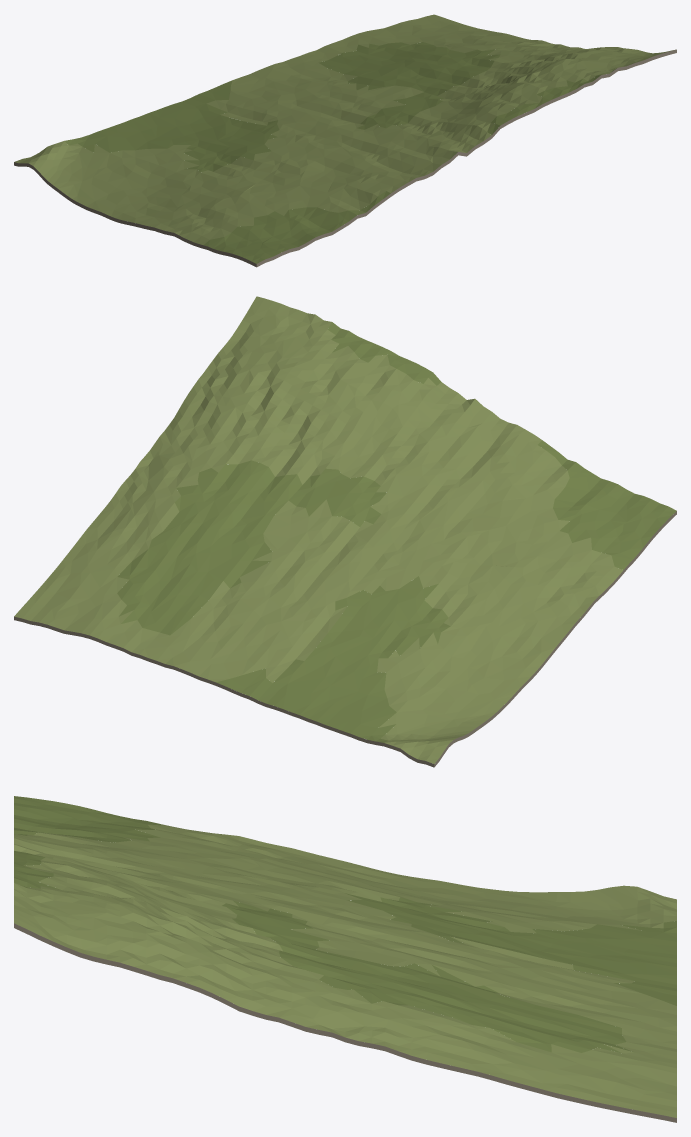
File: parca_+5_-4-uzak.glb
3 views of the same model, one above another, from view 1: azimuth 30°, elevation 25°; view 2: azimuth 150°, elevation 25°; view 3: azimuth 270°, elevation 25° (orthographic). The views are drawn at different scales.
Visible parts, largest first — view 1: parca_+5_-4_arazi_uzak; view 2: parca_+5_-4_arazi_uzak; view 3: parca_+5_-4_arazi_uzak.
Boxes of the visible parts, box(x1,y1,x2,y2) form: parca_+5_-4_arazi_uzak: box(14, 14, 676, 267); parca_+5_-4_arazi_uzak: box(14, 296, 676, 767); parca_+5_-4_arazi_uzak: box(14, 796, 676, 1122).
Size of the model in its own units: 1000 by 435 by 1000.
